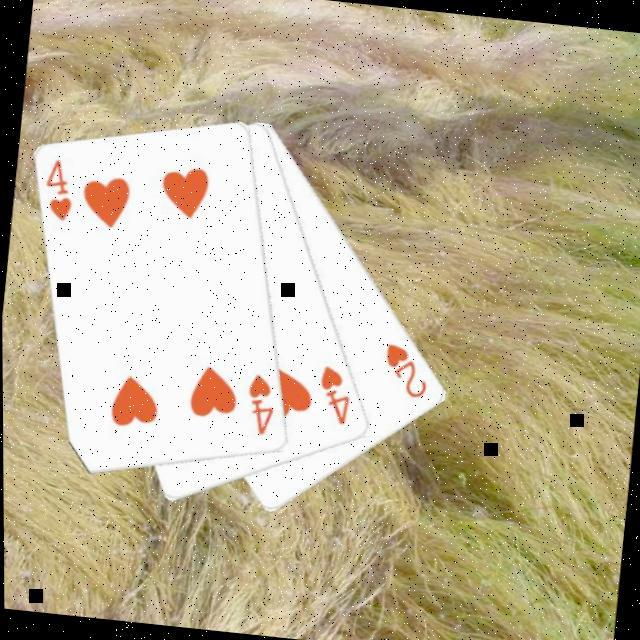2H: (376, 337, 432, 400)
4H: (310, 359, 354, 427), (36, 153, 78, 223), (237, 368, 278, 437)
